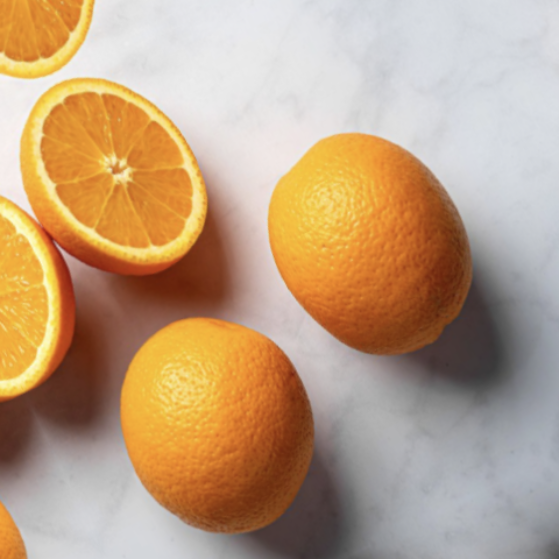orange: (217, 92, 515, 402), (66, 271, 363, 559)
